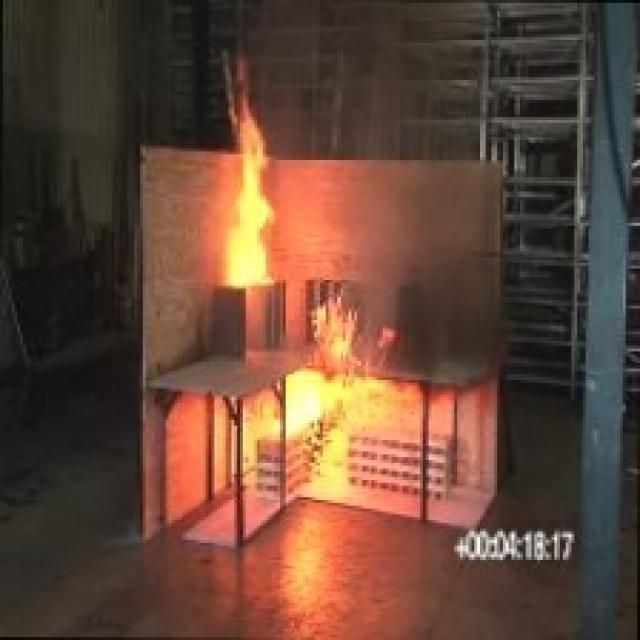fire: (182, 49, 324, 320), (248, 300, 423, 491)
